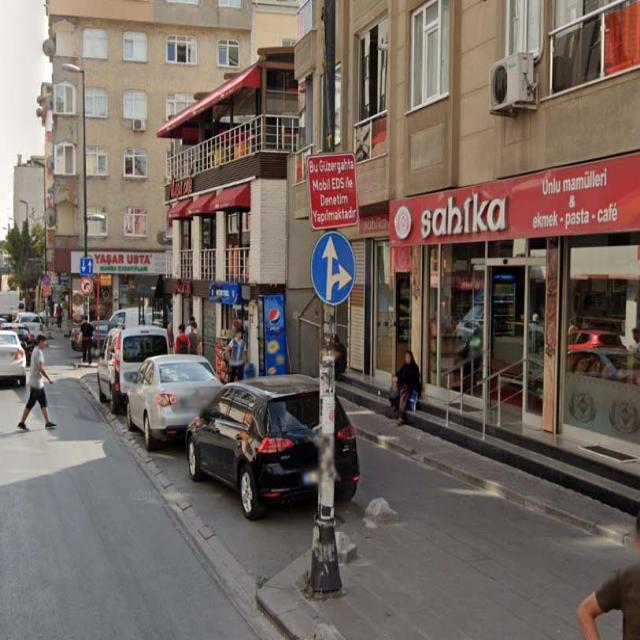ilerisag: (310, 233, 356, 303)
